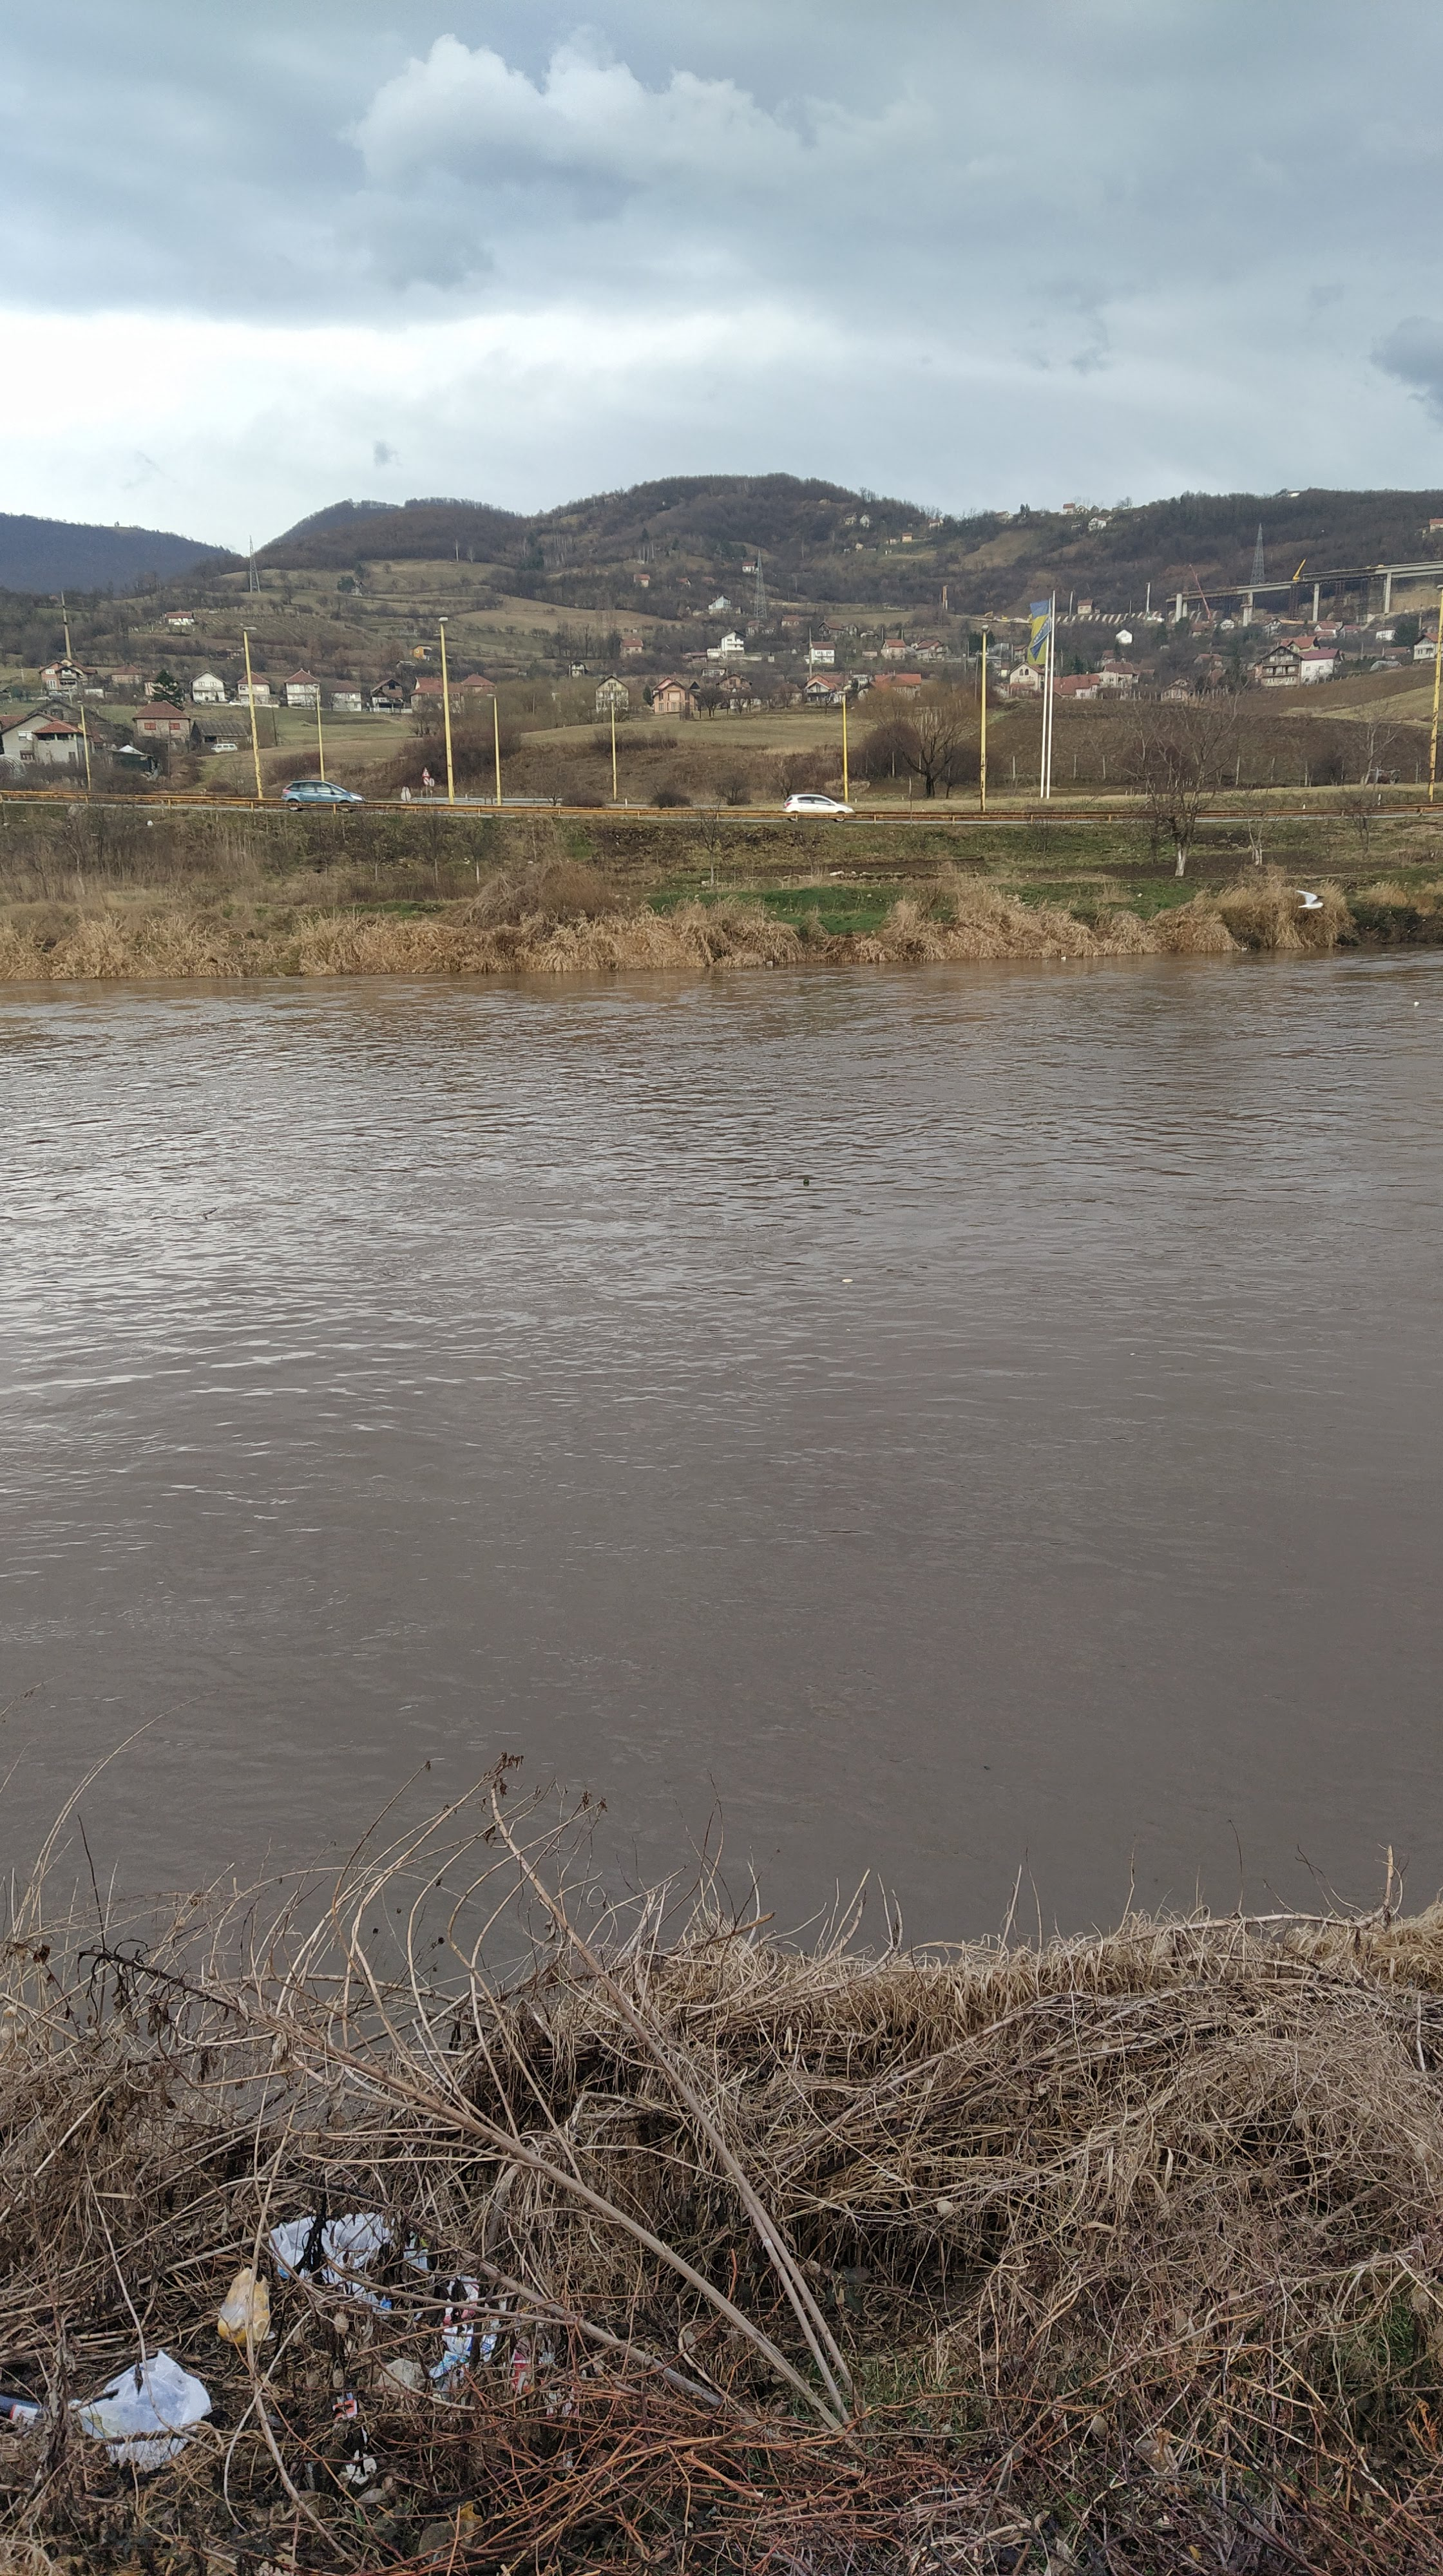Plastic Bottle: (804, 1178, 807, 1184), (1061, 955, 1064, 959), (1415, 1001, 1418, 1005)
